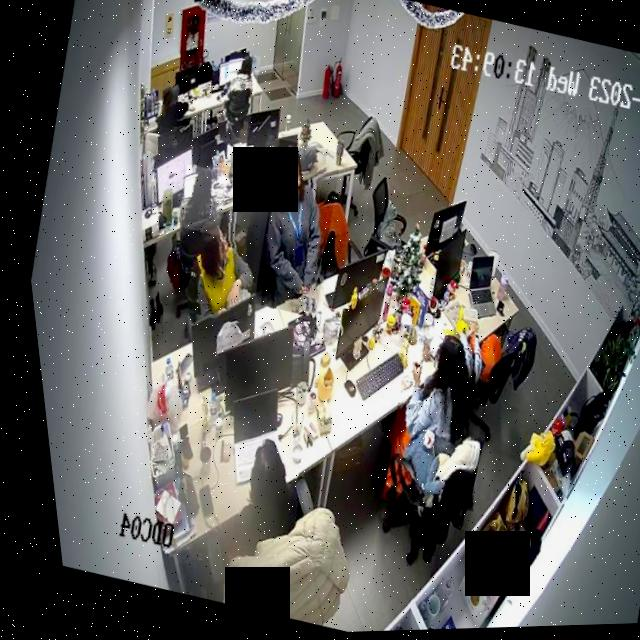person: (356, 318, 501, 521), (232, 139, 351, 320), (205, 432, 302, 569), (170, 216, 263, 328), (205, 50, 267, 150), (166, 164, 229, 237), (150, 84, 193, 134)
